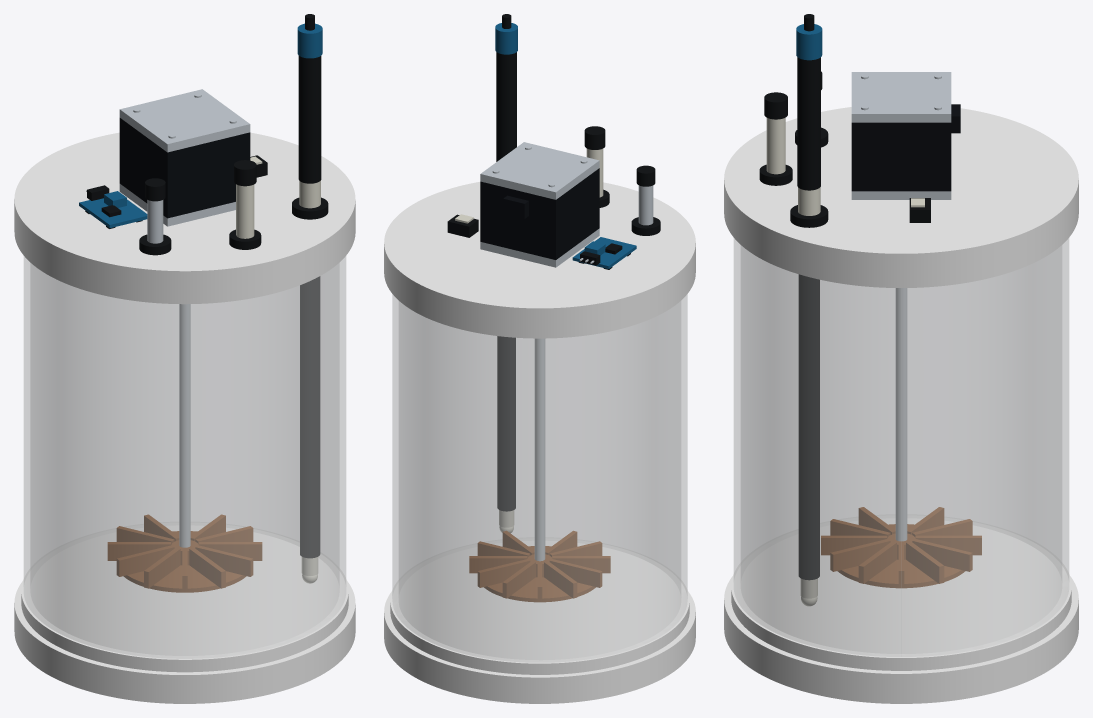
File: reactor.glb
The picture shows the model from 3 angles, left to right: view 1: azimuth 30°, elevation 25°; view 2: azimuth 150°, elevation 25°; view 3: azimuth 270°, elevation 25°; orthographic projection. The views are drawn at different scales.
Visible parts, largest first — view 1: NichKa_Transparent_Chamber, NichKa_Top, NichKa_Base_Ring, NichKa_Base, NichKa_NEMA17, Sensor_pH_Immersed_Body, NichKa_NEMA17_Rear, Sensor_pH_Pencil_Body, NichKa_Internal_Shaft, NichKa_Agitator_Disc, Sensor_PCB_Blue, Sensor_05_Body (+14 smaller); view 2: NichKa_Transparent_Chamber, NichKa_Top, NichKa_Base_Ring, NichKa_Base, NichKa_NEMA17, NichKa_NEMA17_Rear, Sensor_pH_Immersed_Body, NichKa_Internal_Shaft, Sensor_pH_Pencil_Body, NichKa_Agitator_Disc, NichKa_NEMA17_Front, NichKa_Agitator_Blade_03 (+13 smaller); view 3: NichKa_Transparent_Chamber, NichKa_Top, NichKa_Base_Ring, NichKa_Base, NichKa_NEMA17, Sensor_pH_Immersed_Body, NichKa_NEMA17_Rear, NichKa_Internal_Shaft, Sensor_pH_Pencil_Body, NichKa_Agitator_Disc, Sensor_05_Body, NichKa_Agitator_Blade_03 (+12 smaller).
Part boxes in pixels (box(x1,y1,x2,y2)): NichKa_Transparent_Chamber: box(24, 256, 345, 658); NichKa_Top: box(14, 132, 355, 304); NichKa_Base_Ring: box(21, 522, 348, 672); NichKa_Base: box(14, 581, 355, 703); NichKa_NEMA17: box(119, 118, 250, 218); Sensor_pH_Immersed_Body: box(300, 276, 320, 558); NichKa_NEMA17_Rear: box(119, 89, 250, 152); Sensor_pH_Pencil_Body: box(298, 56, 321, 183); NichKa_Internal_Shaft: box(179, 304, 190, 547); NichKa_Agitator_Disc: box(123, 531, 246, 592); Sensor_PCB_Blue: box(79, 198, 147, 228); Sensor_05_Body: box(236, 184, 254, 238); NichKa_Transparent_Chamber: box(392, 294, 687, 662); NichKa_Top: box(384, 182, 695, 338); NichKa_Base_Ring: box(390, 537, 689, 674); NichKa_Base: box(384, 591, 695, 703); NichKa_NEMA17: box(480, 168, 599, 259); NichKa_NEMA17_Rear: box(480, 142, 599, 199); Sensor_pH_Immersed_Body: box(497, 336, 515, 511); NichKa_Internal_Shaft: box(534, 338, 545, 561); Sensor_pH_Pencil_Body: box(496, 52, 516, 161); NichKa_Agitator_Disc: box(484, 546, 595, 602); NichKa_NEMA17_Front: box(480, 228, 599, 267); NichKa_Agitator_Blade_03: box(477, 559, 530, 587); NichKa_Transparent_Chamber: box(734, 238, 1068, 656); NichKa_Top: box(724, 107, 1078, 287); NichKa_Base_Ring: box(731, 514, 1071, 670); NichKa_Base: box(724, 576, 1078, 703); NichKa_NEMA17: box(851, 122, 951, 191); Sensor_pH_Immersed_Body: box(798, 274, 819, 580); NichKa_NEMA17_Rear: box(851, 72, 951, 122); NichKa_Internal_Shaft: box(895, 288, 907, 541); Sensor_pH_Pencil_Body: box(797, 57, 820, 190); NichKa_Agitator_Disc: box(837, 524, 965, 588); Sensor_05_Body: box(766, 117, 785, 174); NichKa_Agitator_Blade_03: box(912, 539, 972, 571).
Size of the model in its own units: 0.15 by 0.305 by 0.15.
